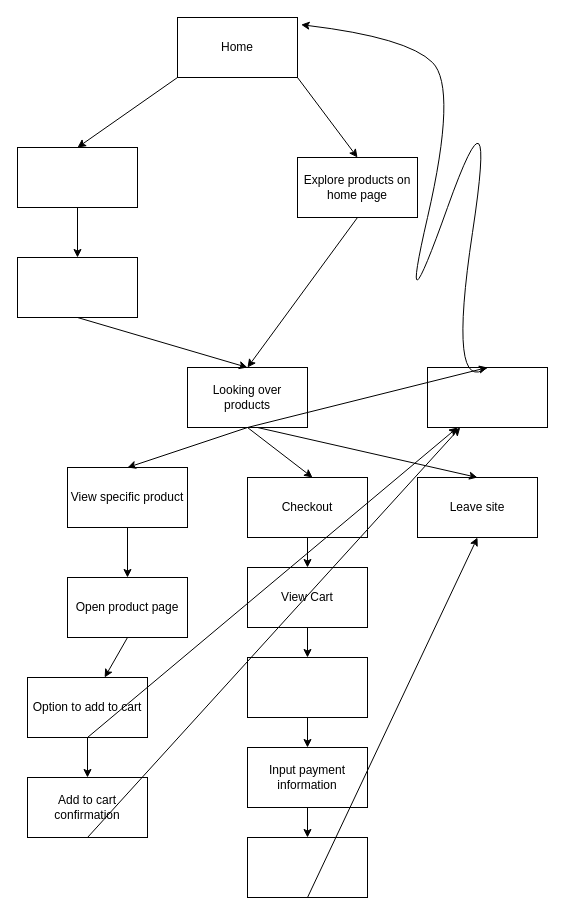
The diagram is 565 pixels wide and 923 high, and some of its shapes have lost their labels. The centre of each missing label's shape, as x and y in pixels:
"Continue shopping" goes at (x=487, y=397).
"Order confirmation, recieve email" goes at (x=307, y=867).
"Provide input" goes at (x=77, y=287).
"Search for product" goes at (x=77, y=177).
"View Payment" goes at (x=307, y=687).
